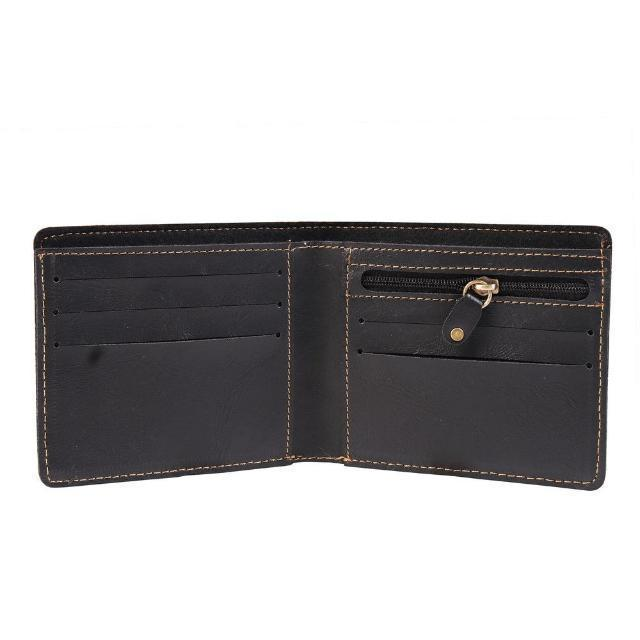wallet: (28, 214, 610, 494)
